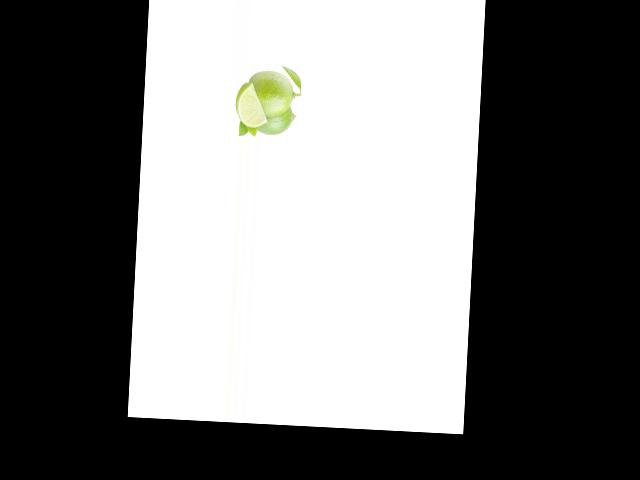lemon: (249, 69, 296, 116)
